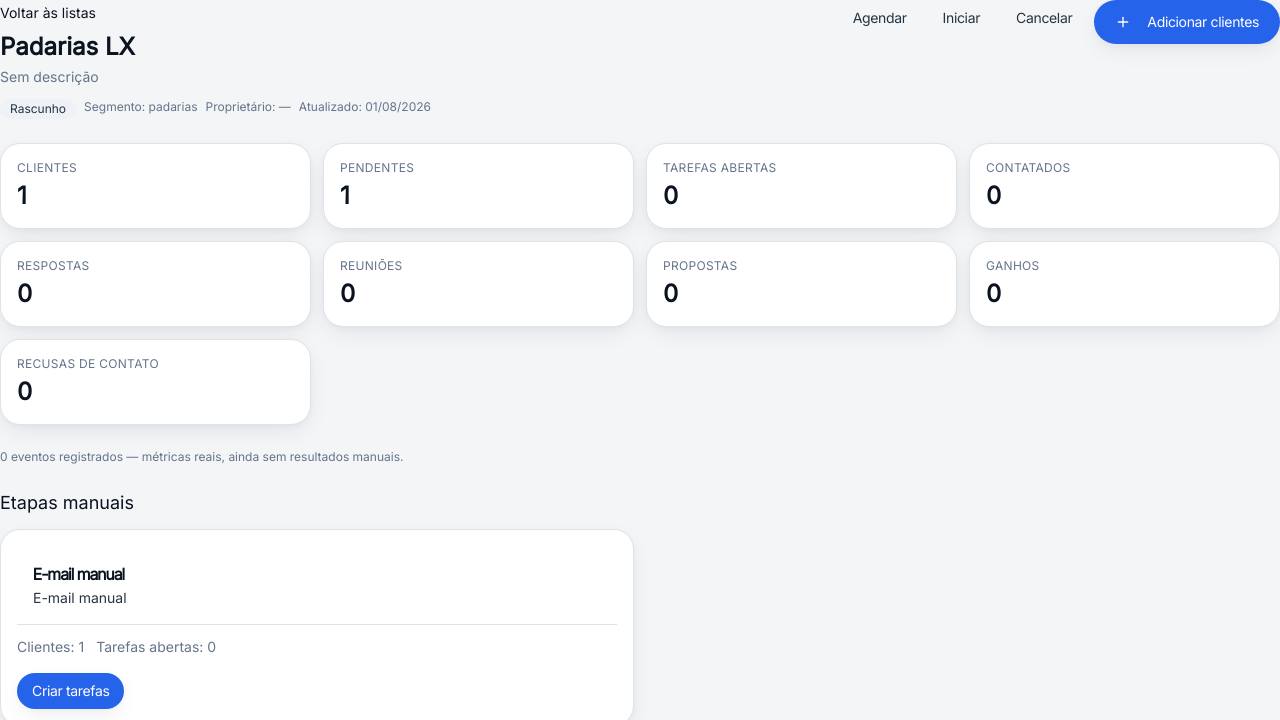
CampaignDetailPage › blocks do-not-contact leads in the picker
The width and height of the screenshot is (1280, 720).
Click the button "Adicionar clientes": (1187, 22) x1=1094 y1=0 x2=1279 y2=44
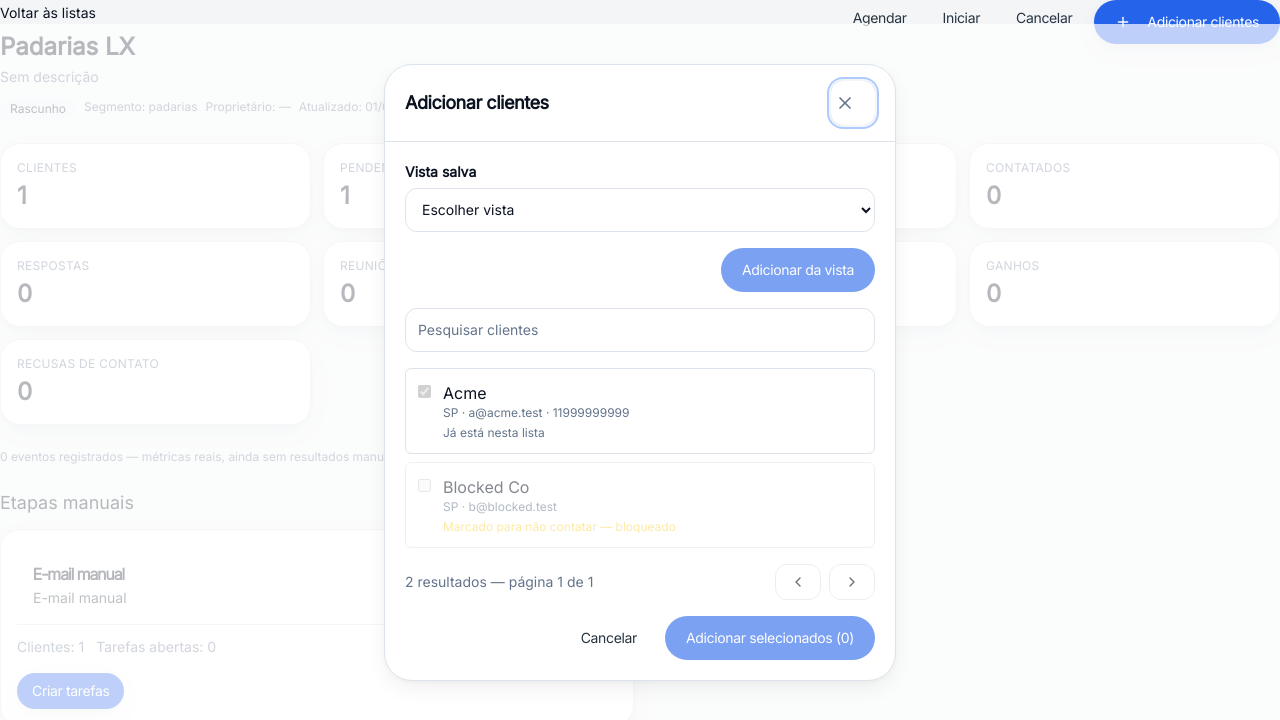
Now the text "Blocked Co" is shown, box x1=443 y1=476 x2=529 y2=496
Now the text "Marcado para não contatar — bloqueado" is shown, box x1=443 y1=518 x2=676 y2=534
